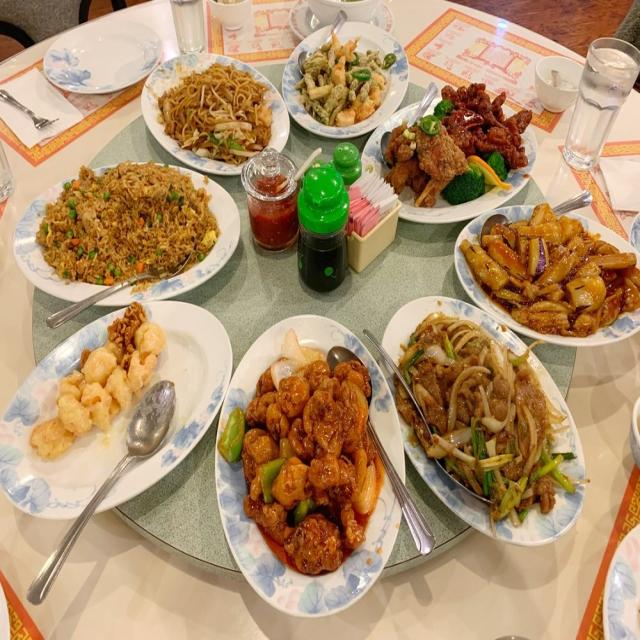com chien: (9, 163, 250, 286)
ga ran: (366, 82, 554, 215)
mi xao: (145, 40, 286, 160)
rau cu xao bo: (239, 311, 399, 612)
